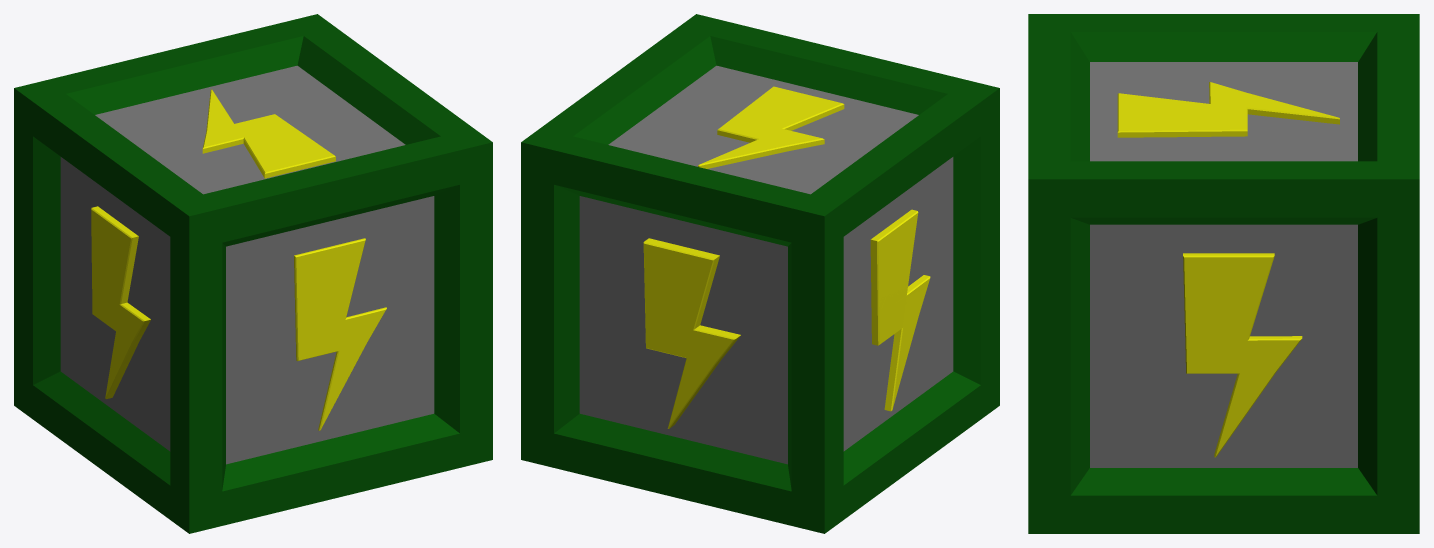
File: Cub_1.fbx
The picture shows the model from 3 angles, left to right: view 1: azimuth 30°, elevation 25°; view 2: azimuth 150°, elevation 25°; view 3: azimuth 270°, elevation 25°; orthographic projection. The views are drawn at different scales.
Parts seen in each view (by area): view 1: stand:nurbsCircle3; view 2: stand:nurbsCircle3; view 3: stand:nurbsCircle3.
Part boxes in pixels (bbox=[...]): stand:nurbsCircle3: bbox=[14, 14, 492, 533]; stand:nurbsCircle3: bbox=[521, 14, 999, 533]; stand:nurbsCircle3: bbox=[1028, 14, 1419, 533].
Bounding box in the file's own units: 1 × 1 × 1.
